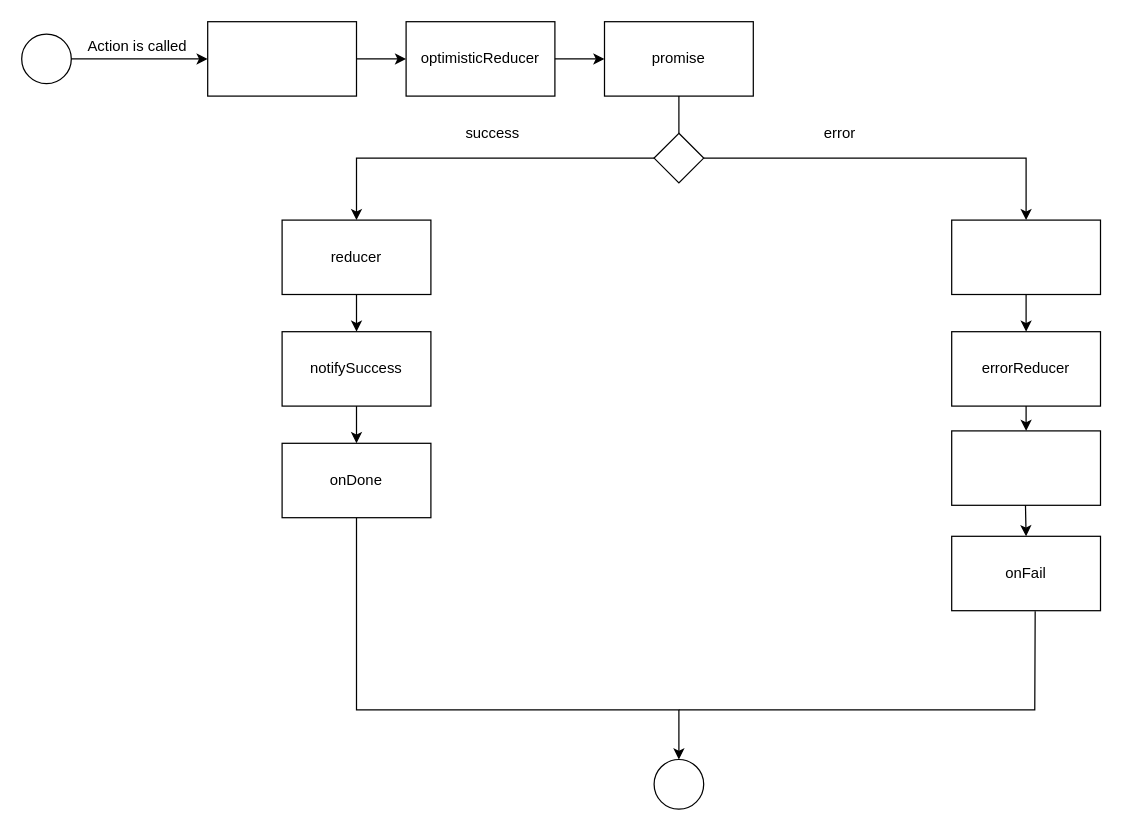
The diagram is 1122 pixels wide and 831 high, and some of its shapes have lost their labels. The centre of each missing label's shape, as x and y in pixels:
notifyError: point 1025,467
preReducer: point 281,58
revert optimistic change: point 1025,256
